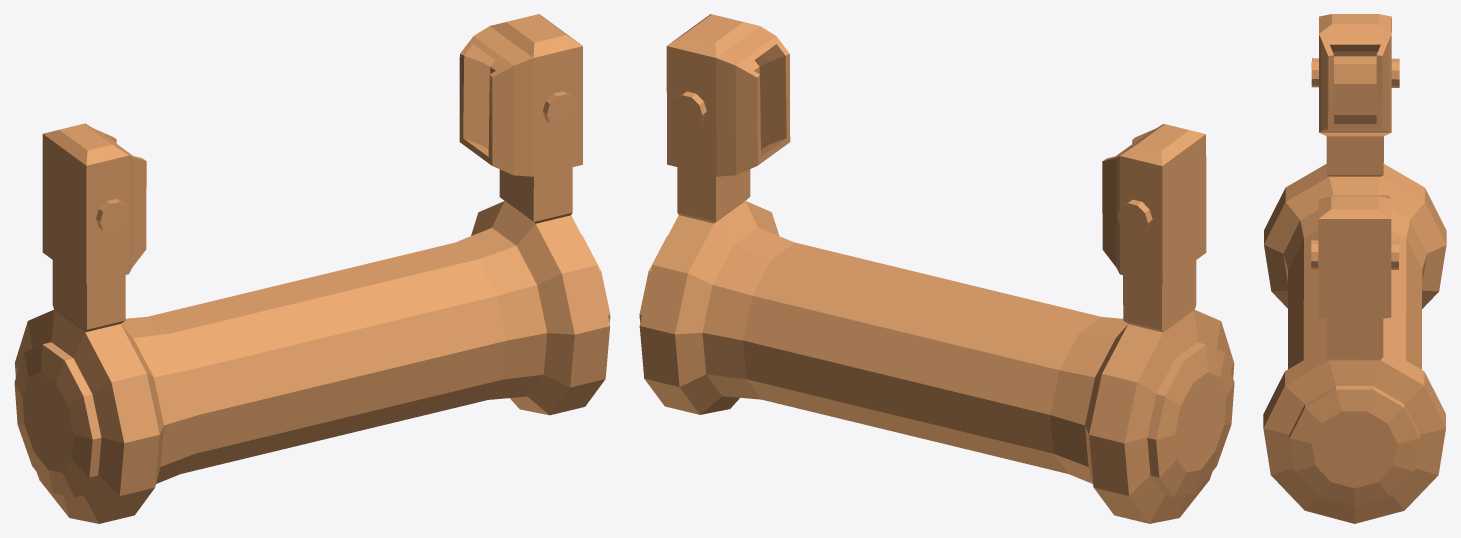
The model's file is S_Cadena.fbx.
3 renders of one model, left to right at view 1: azimuth 30°, elevation 25°; view 2: azimuth 150°, elevation 25°; view 3: azimuth 270°, elevation 25°, orthographic. The views are drawn at different scales.
Parts seen in each view (by area): view 1: S_LowCadena; view 2: S_LowCadena; view 3: S_LowCadena.
Boxes of the visible parts, x1=… form: S_LowCadena: x1=14, y1=14, x2=610, y2=523; S_LowCadena: x1=639, y1=14, x2=1234, y2=523; S_LowCadena: x1=1263, y1=14, x2=1446, y2=523.
Size of the model in its own units: 13.83 by 9.45 by 4.99.
